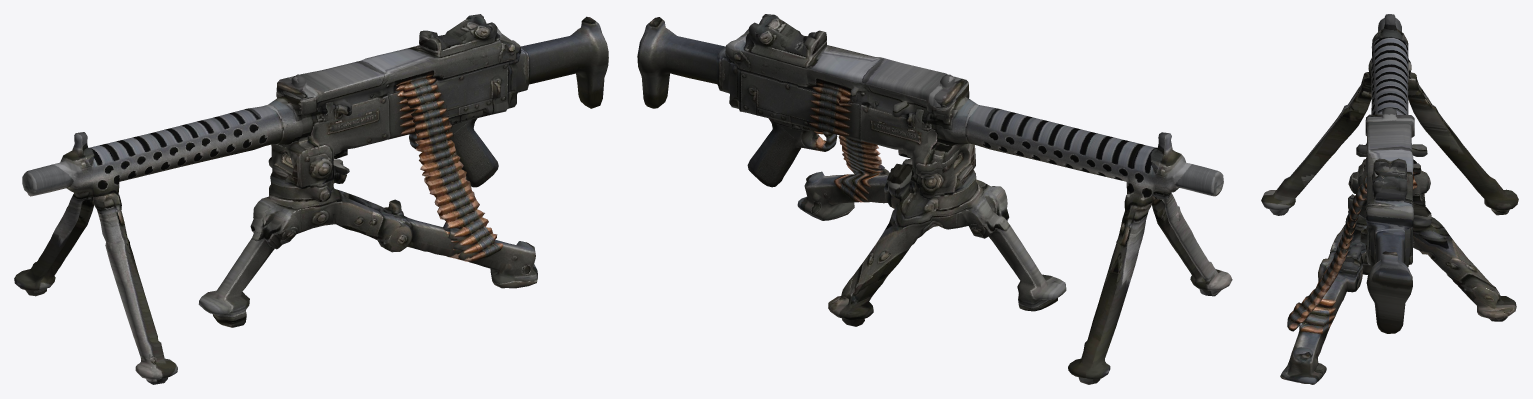
File: machine_gun.glb
3 renders of one model, left to right at view 1: azimuth 30°, elevation 25°; view 2: azimuth 150°, elevation 25°; view 3: azimuth 270°, elevation 25°, orthographic. The views are drawn at different scales.
Parts seen in each view (by area): view 1: geometry_0; view 2: geometry_0; view 3: geometry_0.
Boxes of the visible parts, x1,y1,x2,y2 form: geometry_0: [14, 14, 608, 384]; geometry_0: [637, 14, 1232, 384]; geometry_0: [1261, 14, 1518, 384].
Size of the model in its own units: 1.99 by 0.767 by 0.8461.
Materials: 1 (1 with a texture image).
